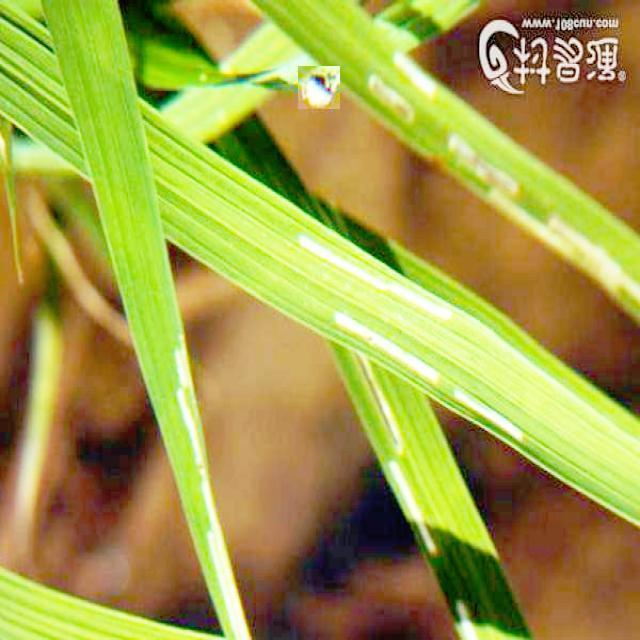rice-bug: (298, 66, 340, 109)
